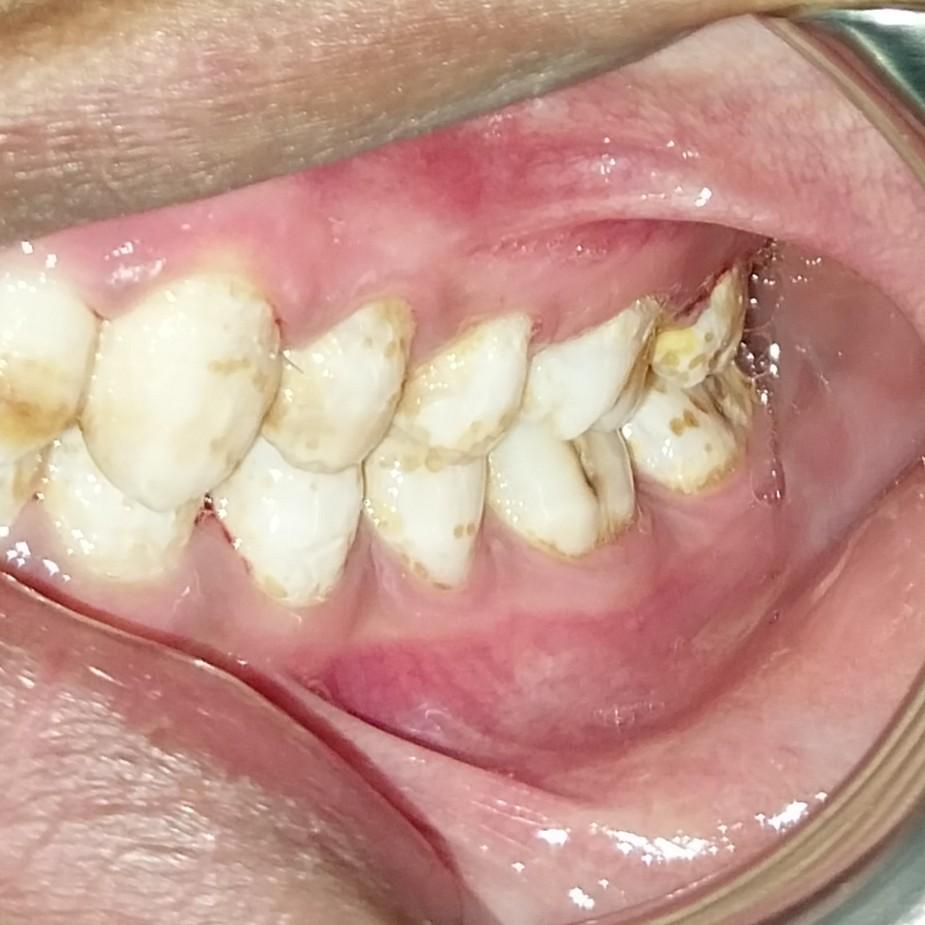D: (501, 427, 644, 543)
